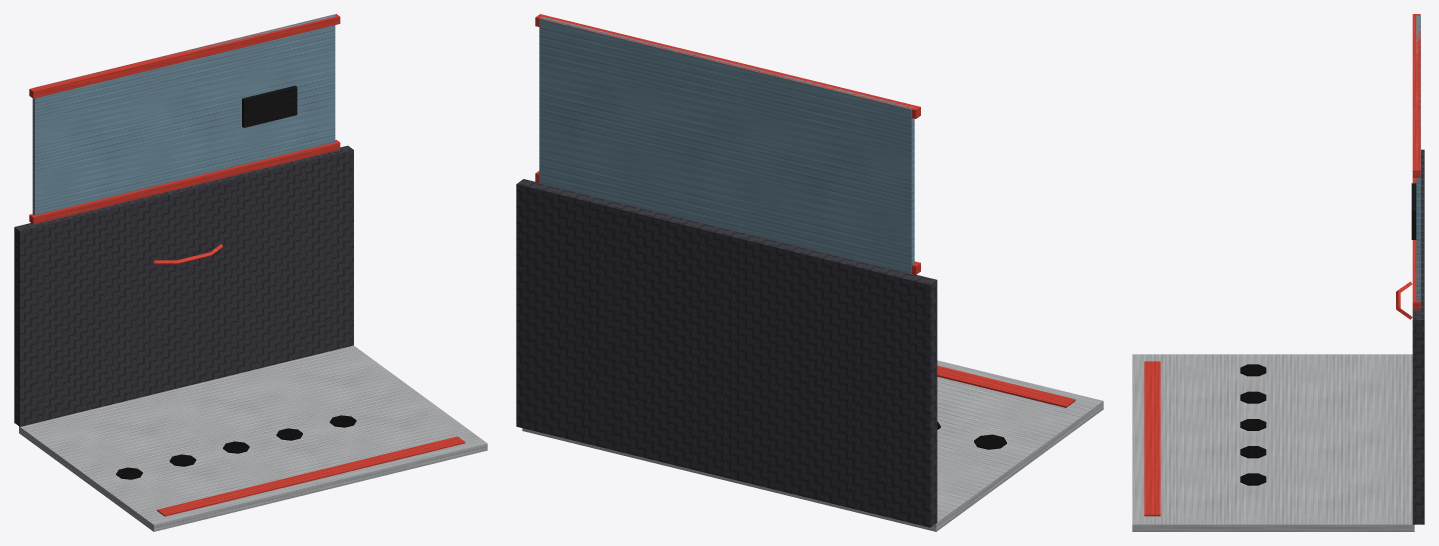
The model's file is reducao_peso_n4.glb.
3 renders of one model, left to right at view 1: azimuth 30°, elevation 25°; view 2: azimuth 150°, elevation 25°; view 3: azimuth 270°, elevation 25°, orthographic. The views are drawn at different scales.
Visible parts, largest first — view 1: reducao_peso_n4; view 2: reducao_peso_n4; view 3: reducao_peso_n4.
Part boxes in pixels (<box>): reducao_peso_n4: <box>14,14,487,531</box>; reducao_peso_n4: <box>516,14,1103,531</box>; reducao_peso_n4: <box>1132,14,1424,531</box>.
Size of the model in its own units: 1 by 0.97 by 0.725.
Materials: 3 (3 with a texture image).
